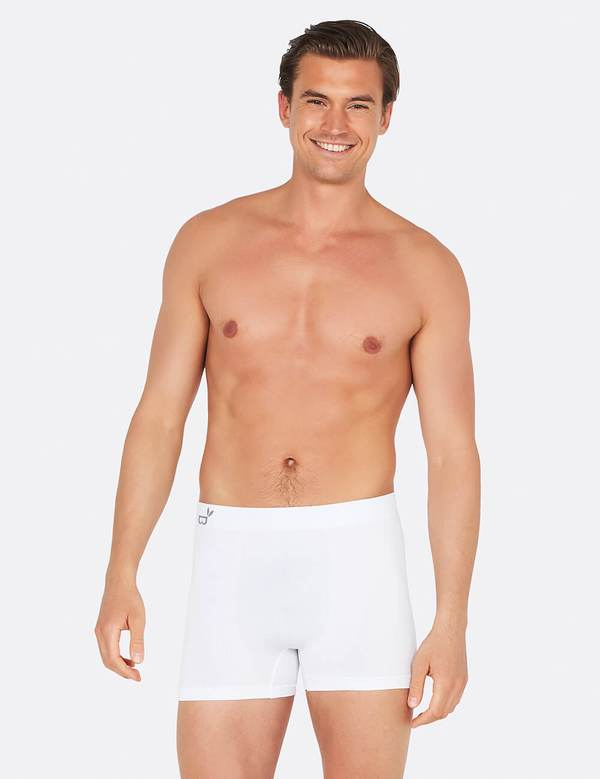NOTSAFE: (206, 18, 409, 498)
